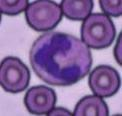N: (29, 32, 91, 86)
